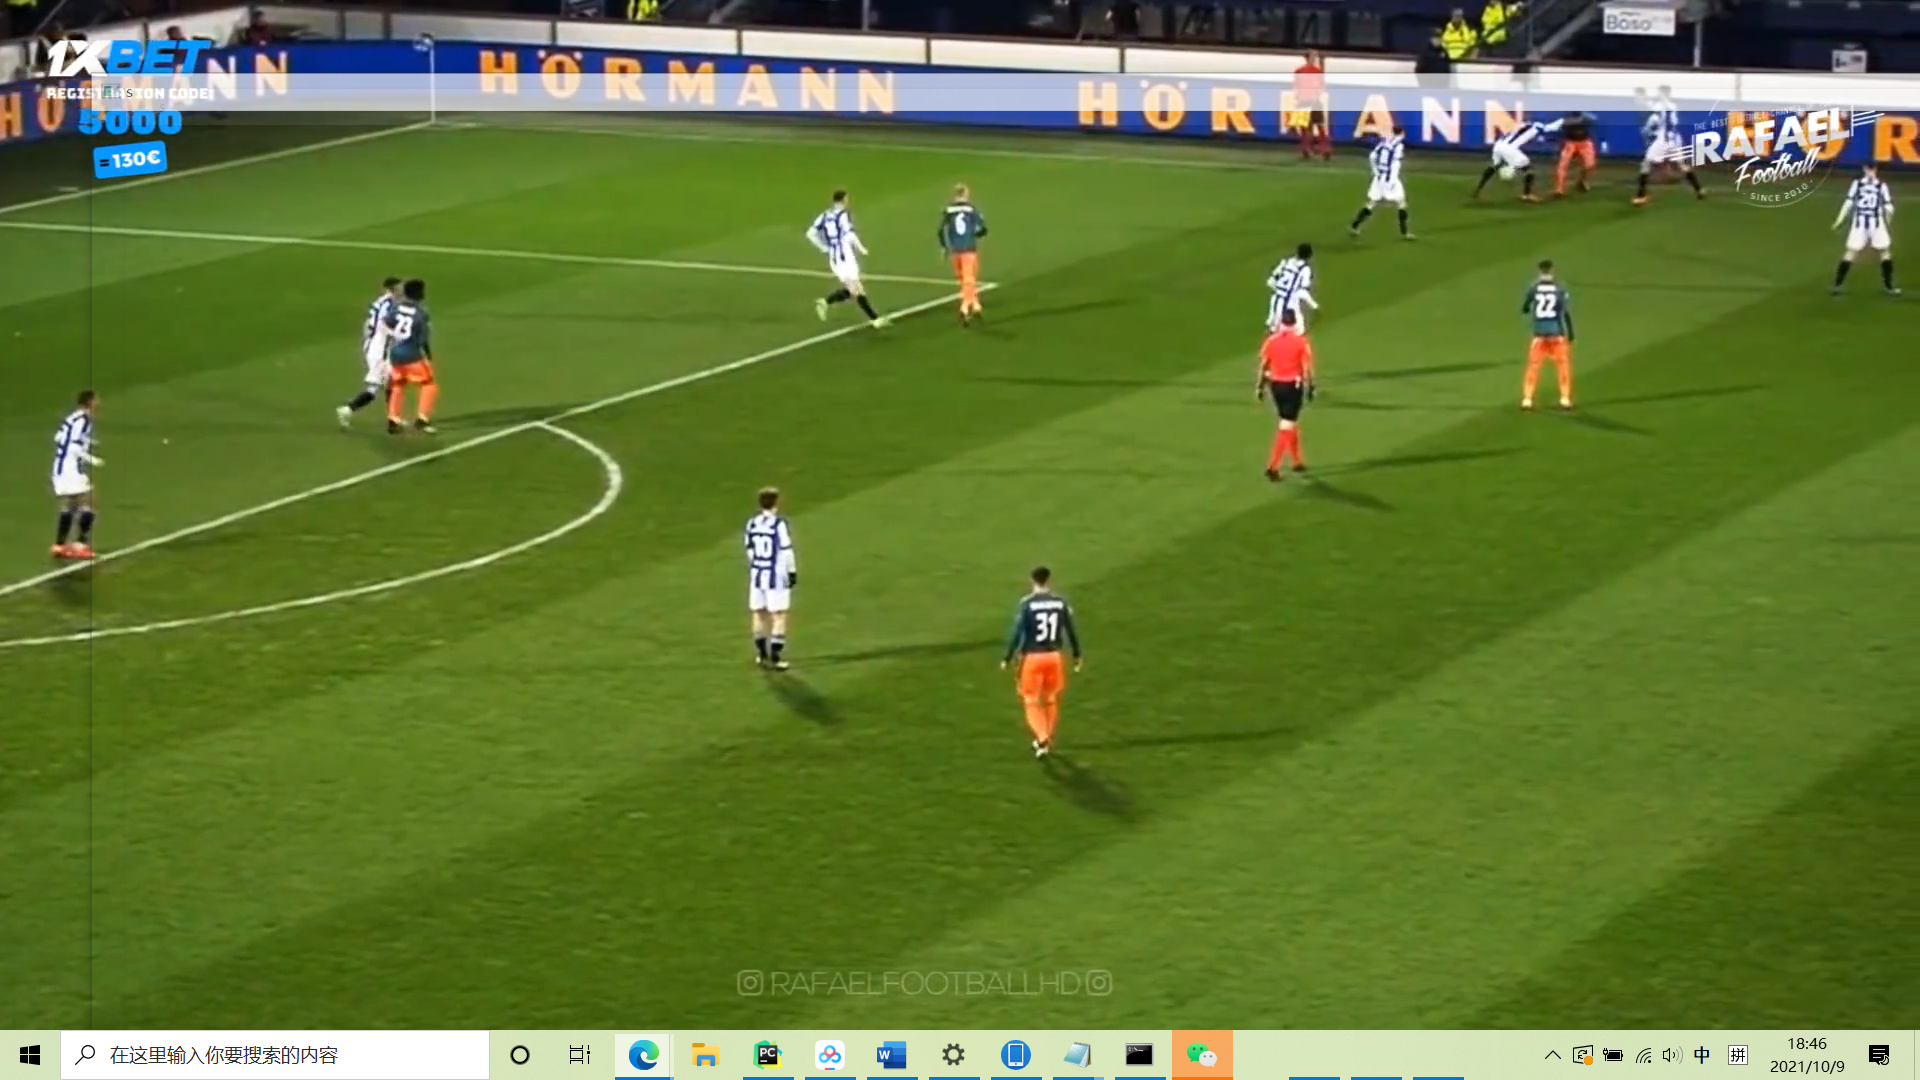ft: (1497, 164, 1518, 183)
